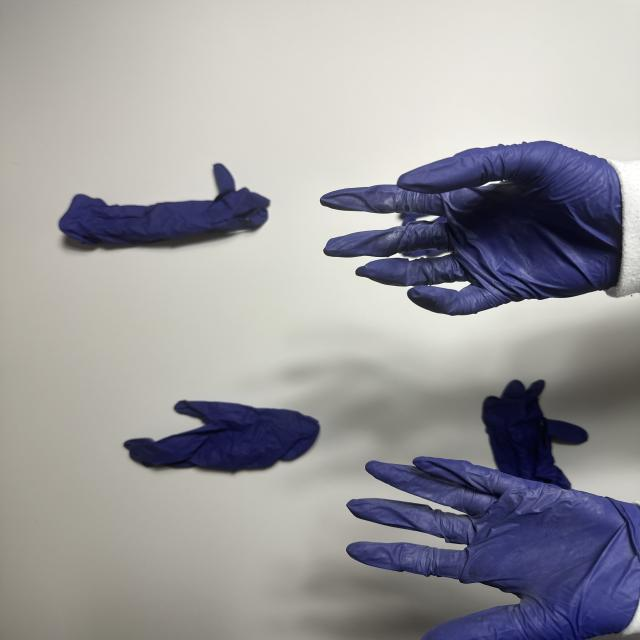gloves_contaminated: (321, 142, 638, 316), (346, 457, 640, 640)
